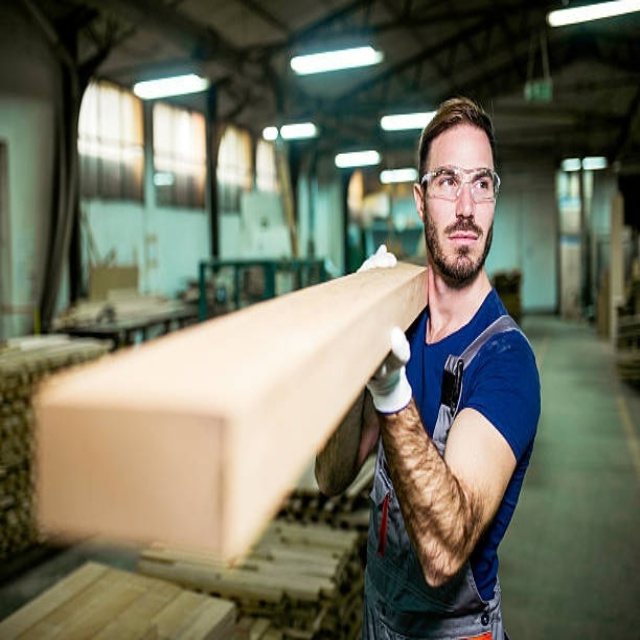Gafas: (421, 166, 502, 202)
Guantes: (366, 324, 414, 415), (357, 243, 397, 272)
Sin_mascara: (442, 220, 479, 262)
